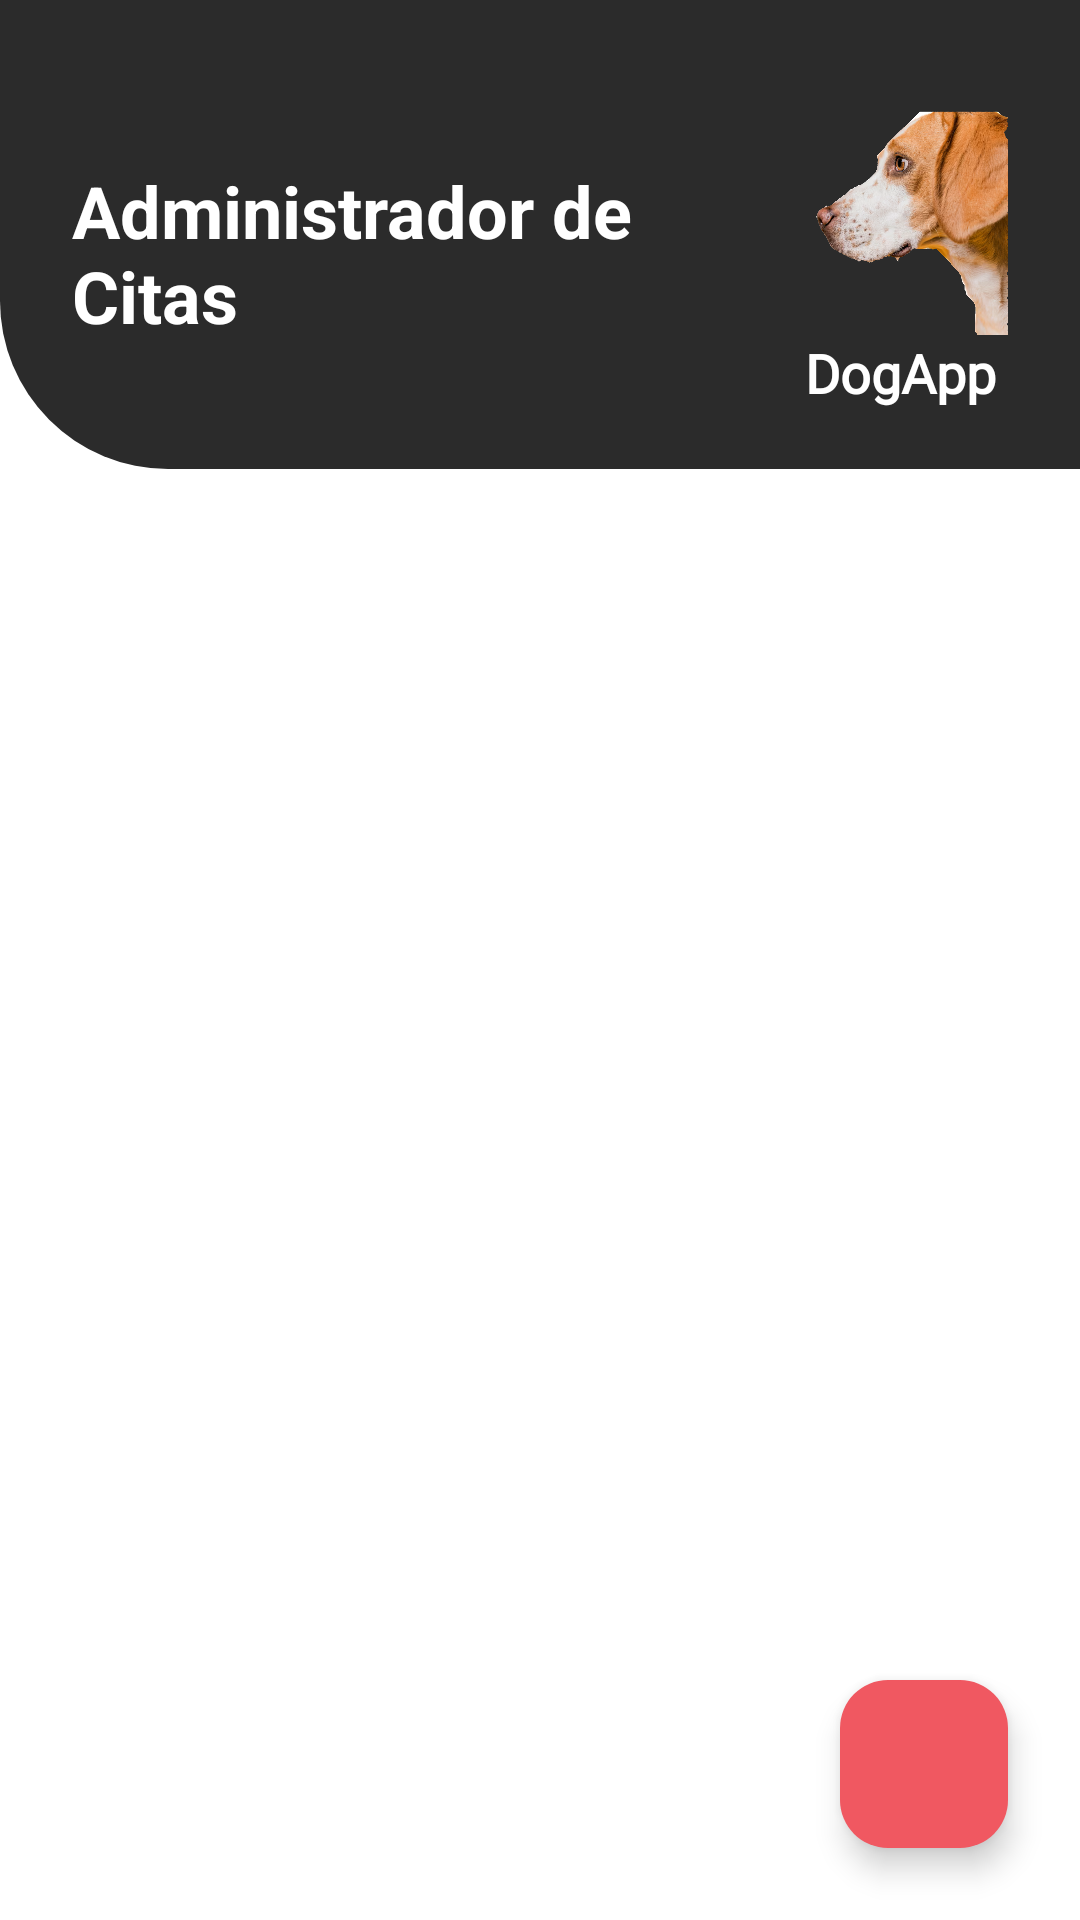

Where to tap for icons on this 1080w x 1920h app screen, as point (x, y):
perro: point (912, 223)
